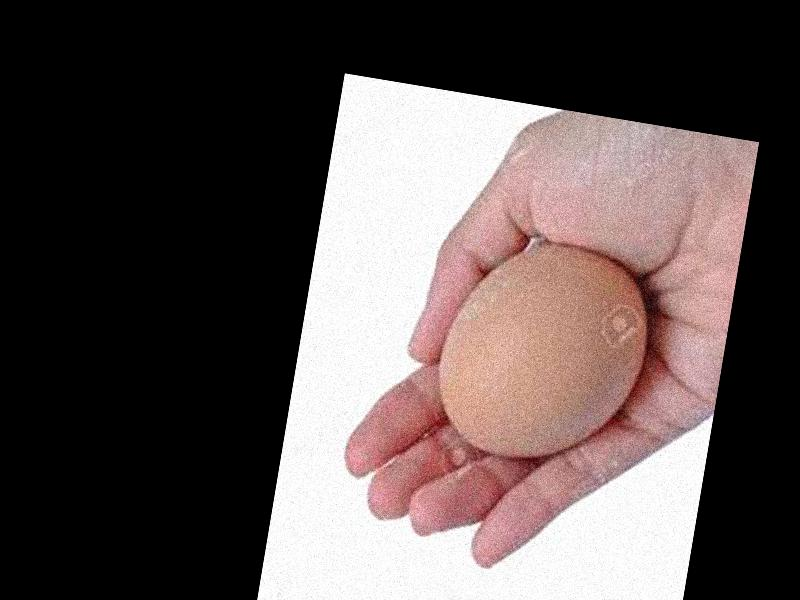Eggs: (426, 227, 658, 476)
